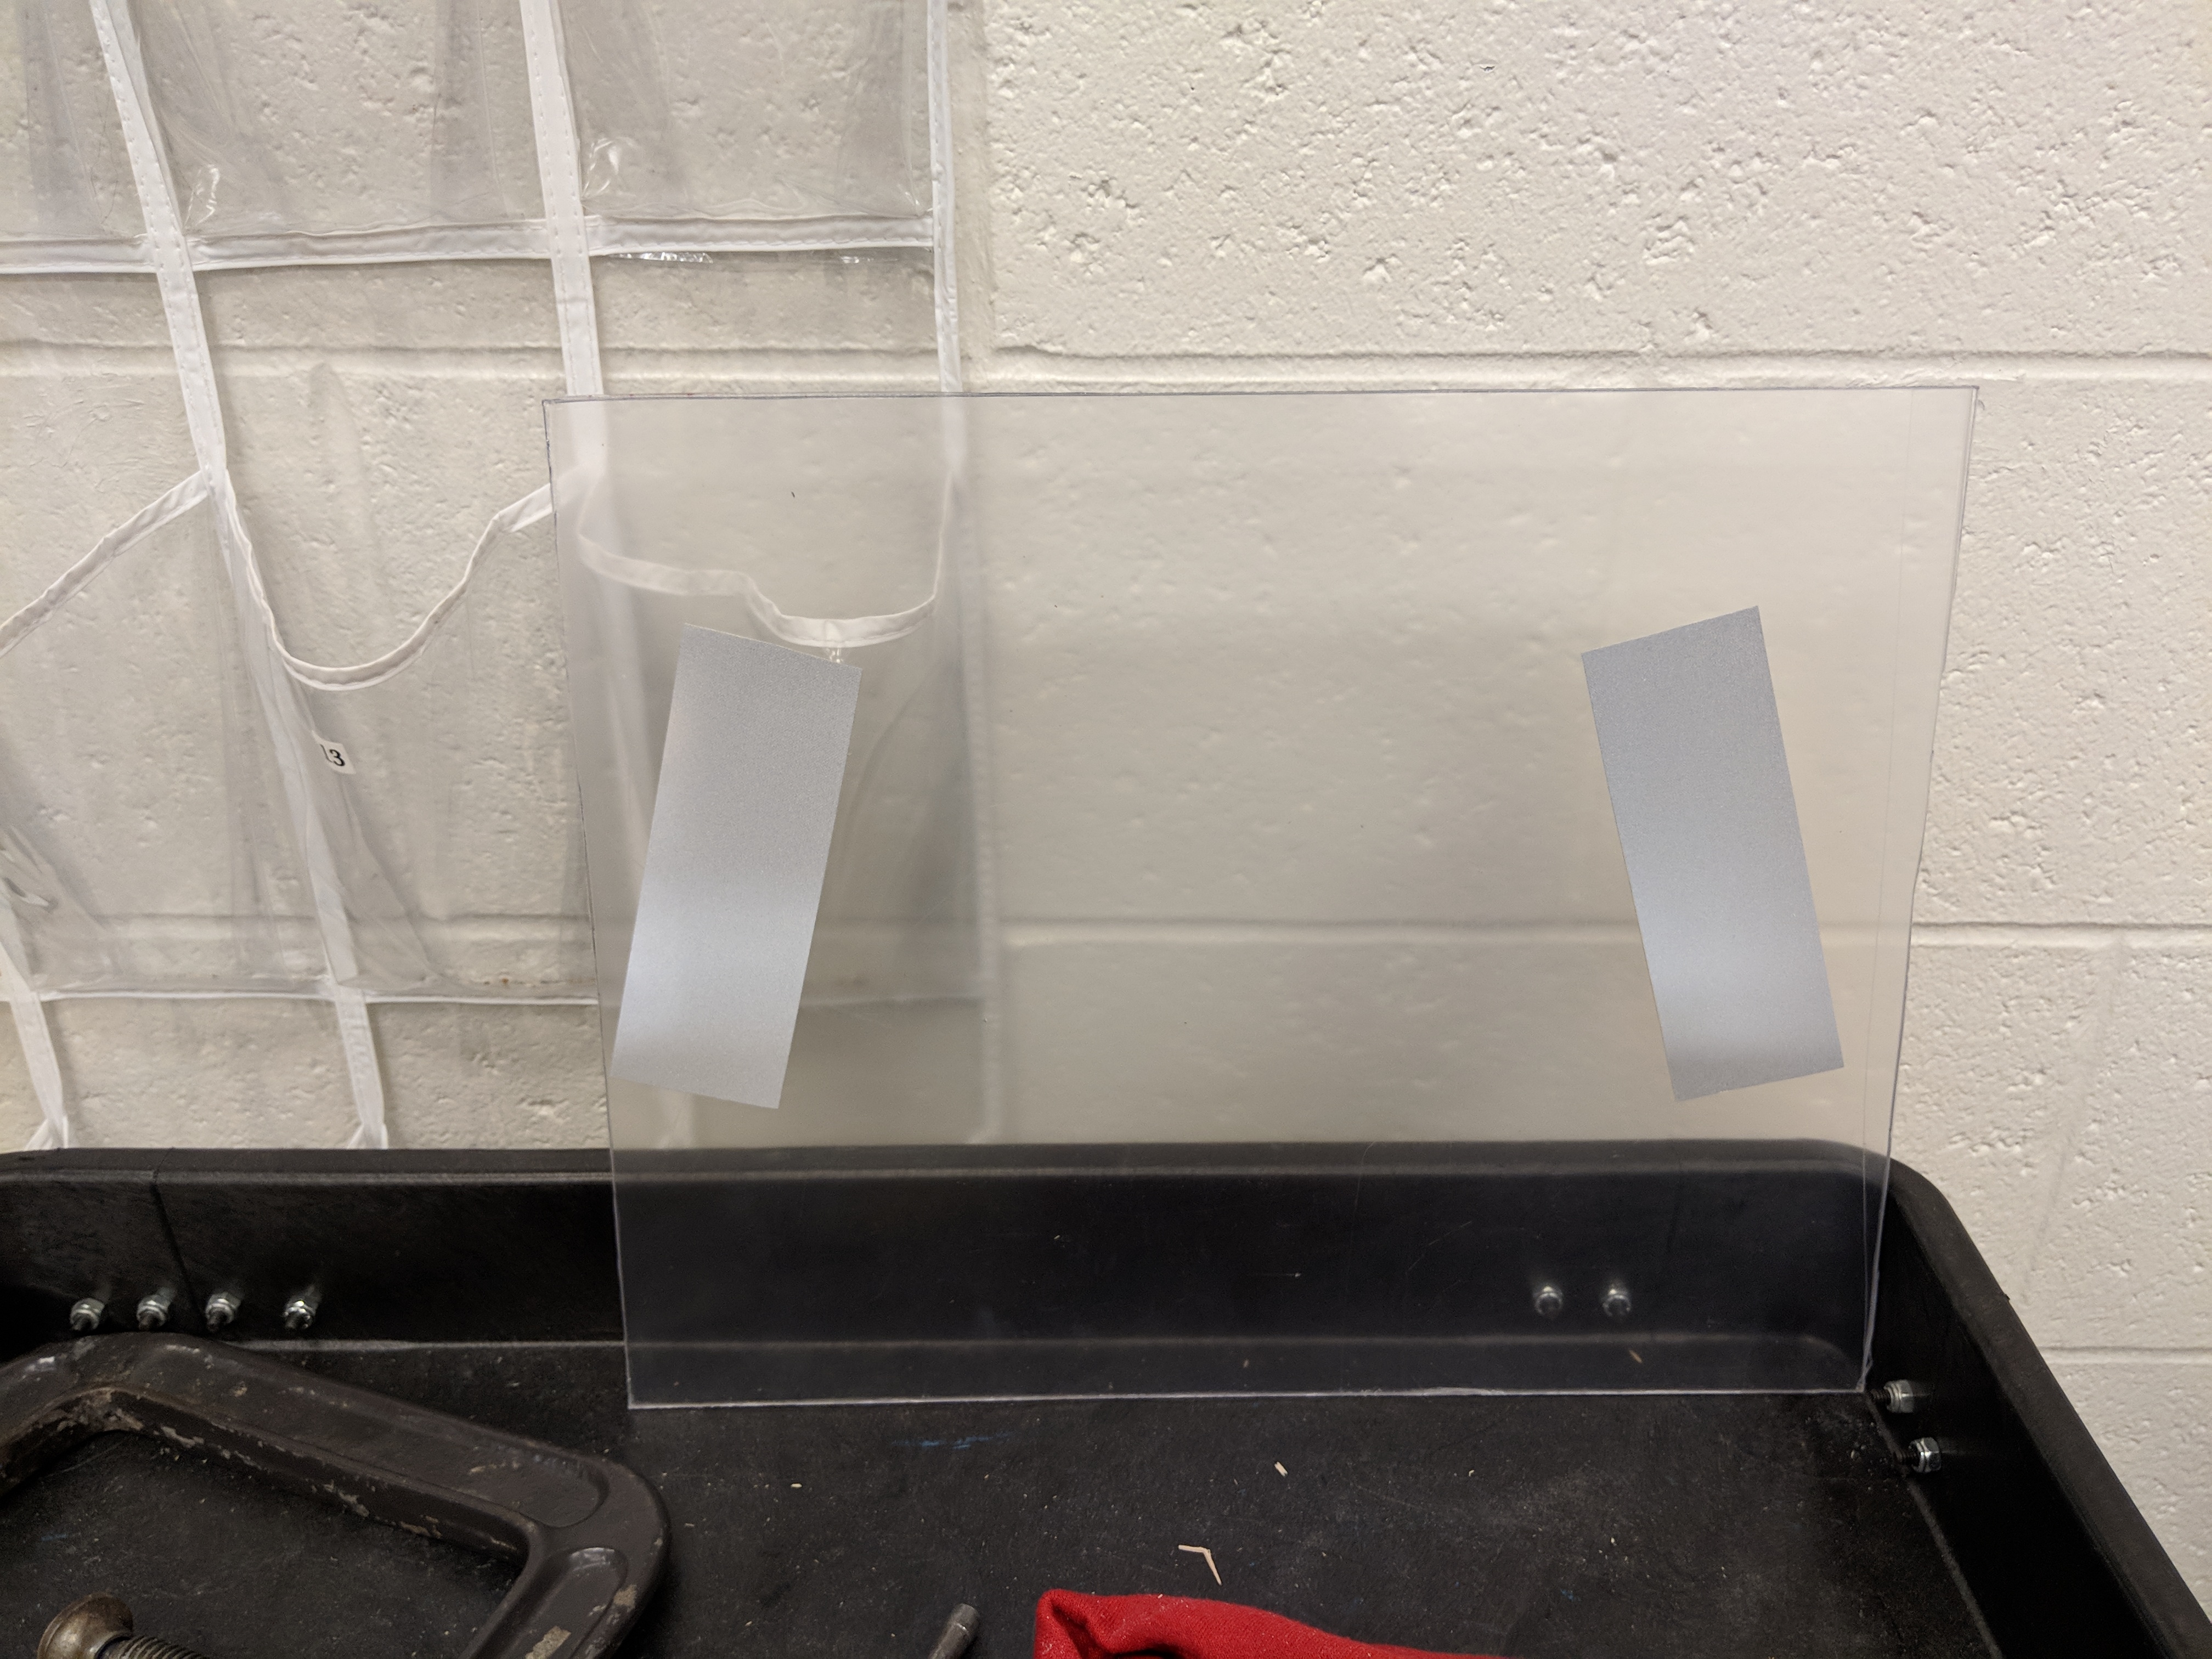vision_target: (590, 587, 1858, 1126)
